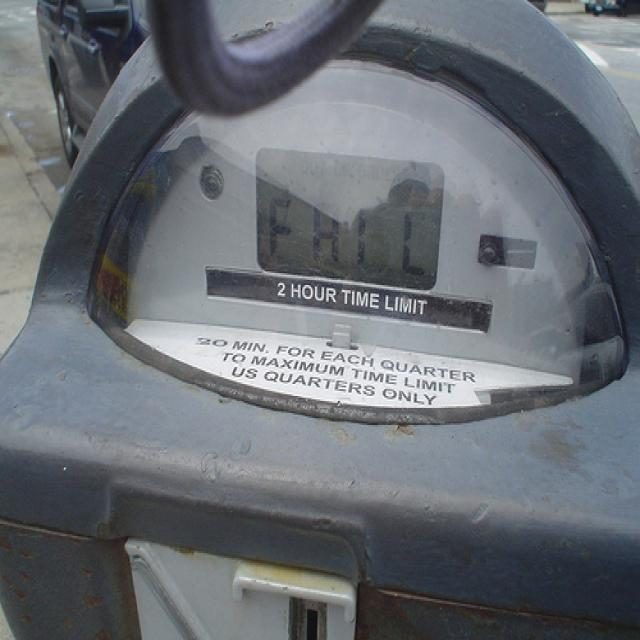Vehicle: (35, 4, 149, 164), (588, 0, 627, 18)
